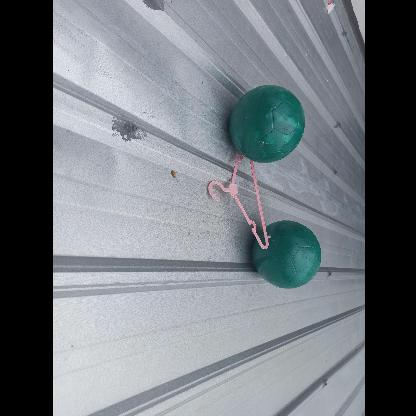green_ball: (228, 86, 307, 164), (254, 222, 322, 290)
